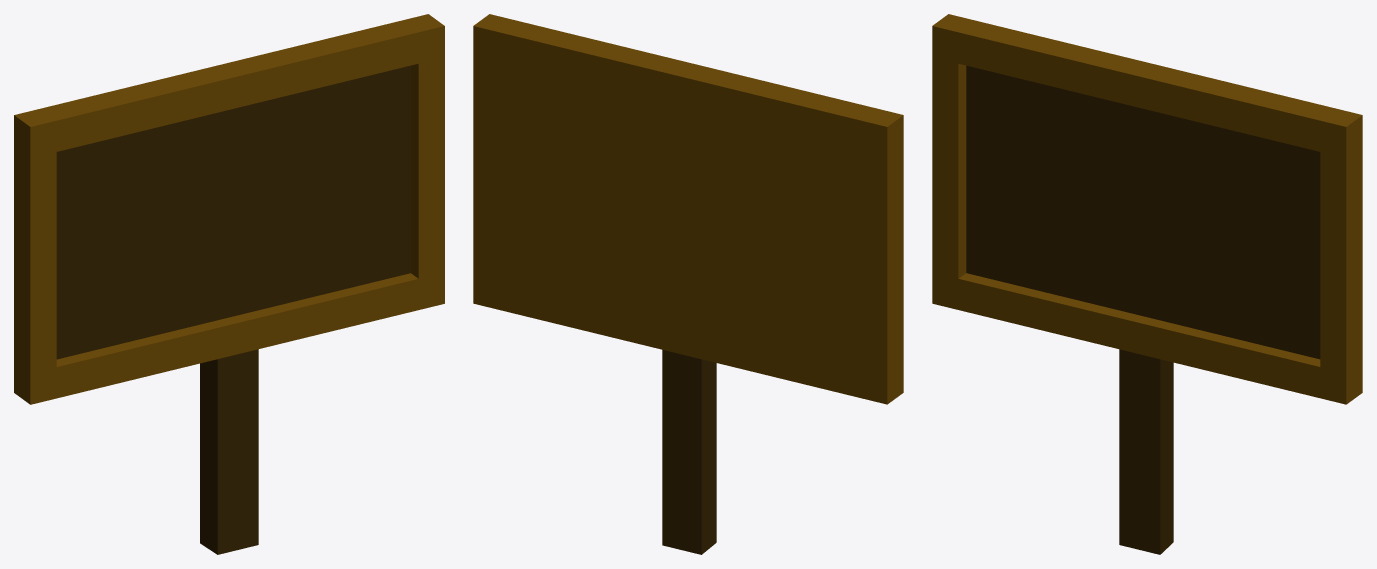
File: Scoreboard.fbx
3 renders of one model, left to right at view 1: azimuth 30°, elevation 25°; view 2: azimuth 150°, elevation 25°; view 3: azimuth 330°, elevation 25°, orthographic.
Visible parts, largest first — view 1: Scoreboard; view 2: Scoreboard; view 3: Scoreboard.
Boxes of the visible parts, box(x1,y1,x2,y2) form: Scoreboard: box(14, 14, 444, 554); Scoreboard: box(473, 14, 903, 554); Scoreboard: box(932, 14, 1362, 554).
Bounding box in the file's own units: 456 × 497 × 31.18.
